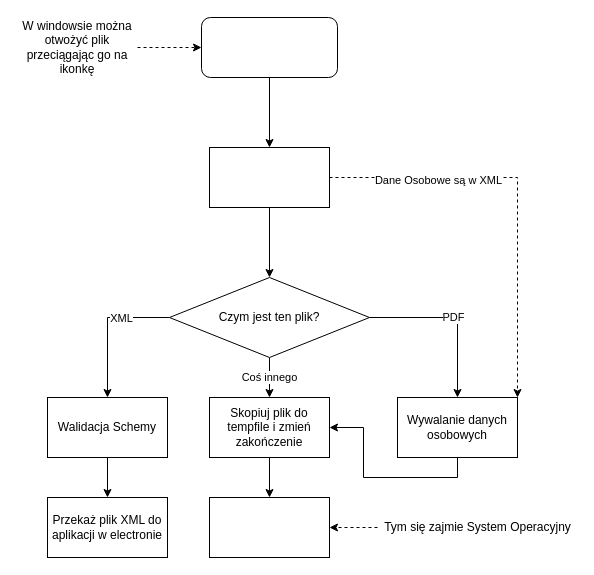
This 594x575 diagram has some shape labels left out. The shapes that lost their labels are listed below. From the top down, each one's centre as x and y in pixels, then its label:
At point 269,47: "User uruchamia plik".
At point 269,177: "Sprawdź podpis i wyciągnij plik z XML".
At point 269,527: "Otwórz plik w domyślnym programie".
